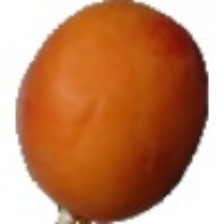apricot: (46, 37, 198, 204)
